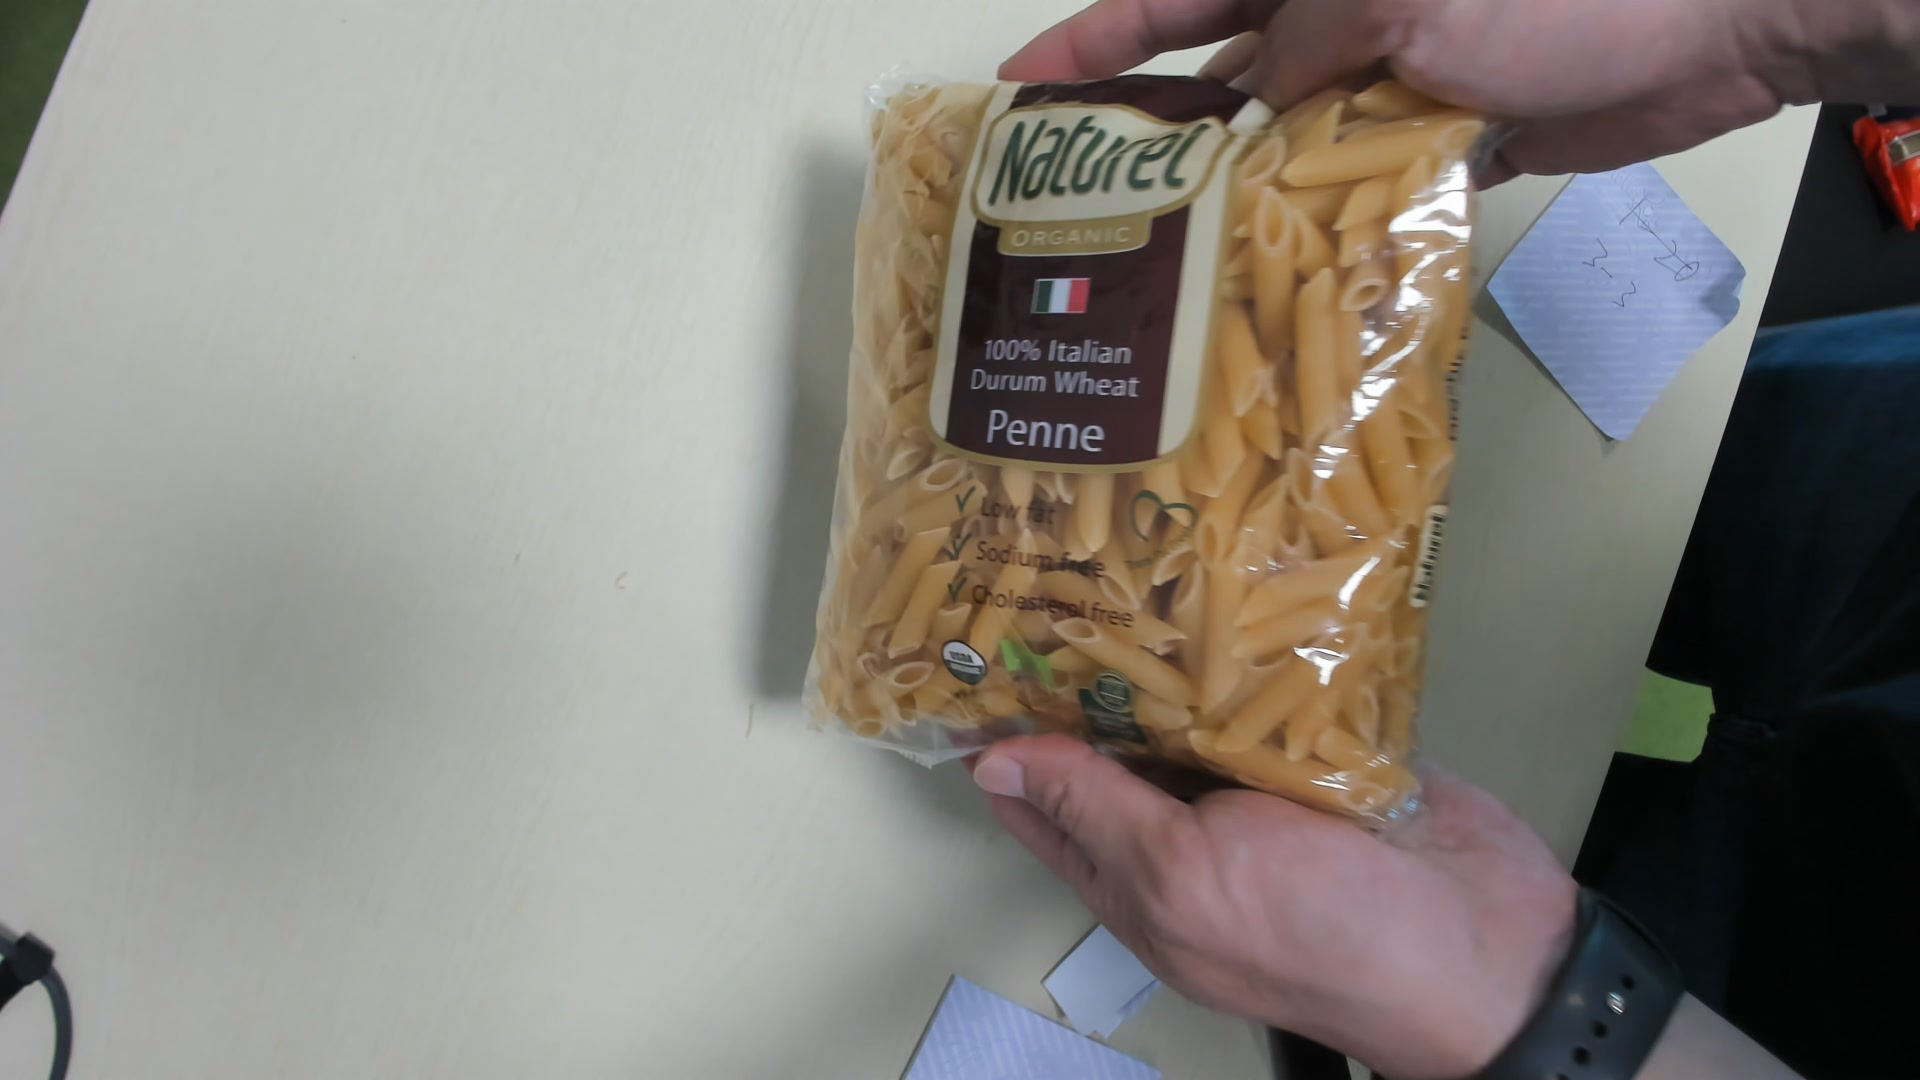Pasta_500-599g_Halal_NonHealthy: (833, 88, 1476, 822)
